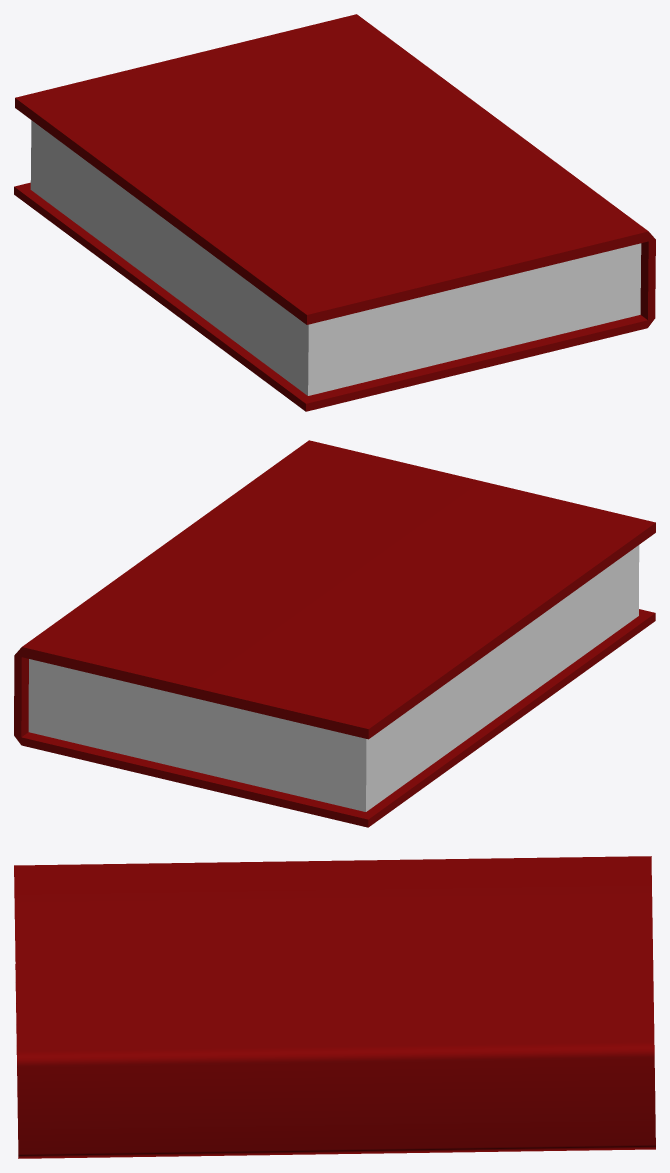
The model's file is Book(full).fbx.
3 views of the same model, one above another, from view 1: azimuth 30°, elevation 25°; view 2: azimuth 150°, elevation 25°; view 3: azimuth 270°, elevation 25° (orthographic). The views are drawn at different scales.
Parts seen in each view (by area): view 1: polySurface38; view 2: polySurface38; view 3: polySurface38.
Boxes of the visible parts, box(x1,y1,x2,y2) form: polySurface38: box(14, 14, 655, 411); polySurface38: box(14, 440, 655, 827); polySurface38: box(14, 856, 655, 1158).
Size of the model in its own units: 57.36 by 16.27 by 81.55.
